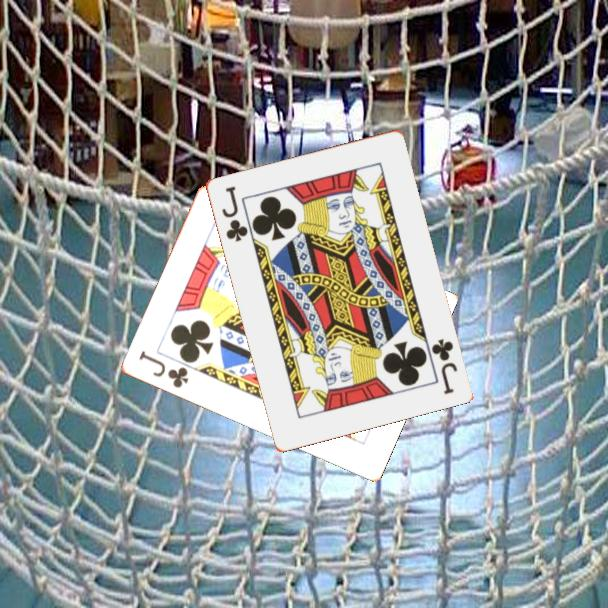c11: (135, 347, 191, 391), (218, 182, 250, 244), (428, 335, 460, 397)
